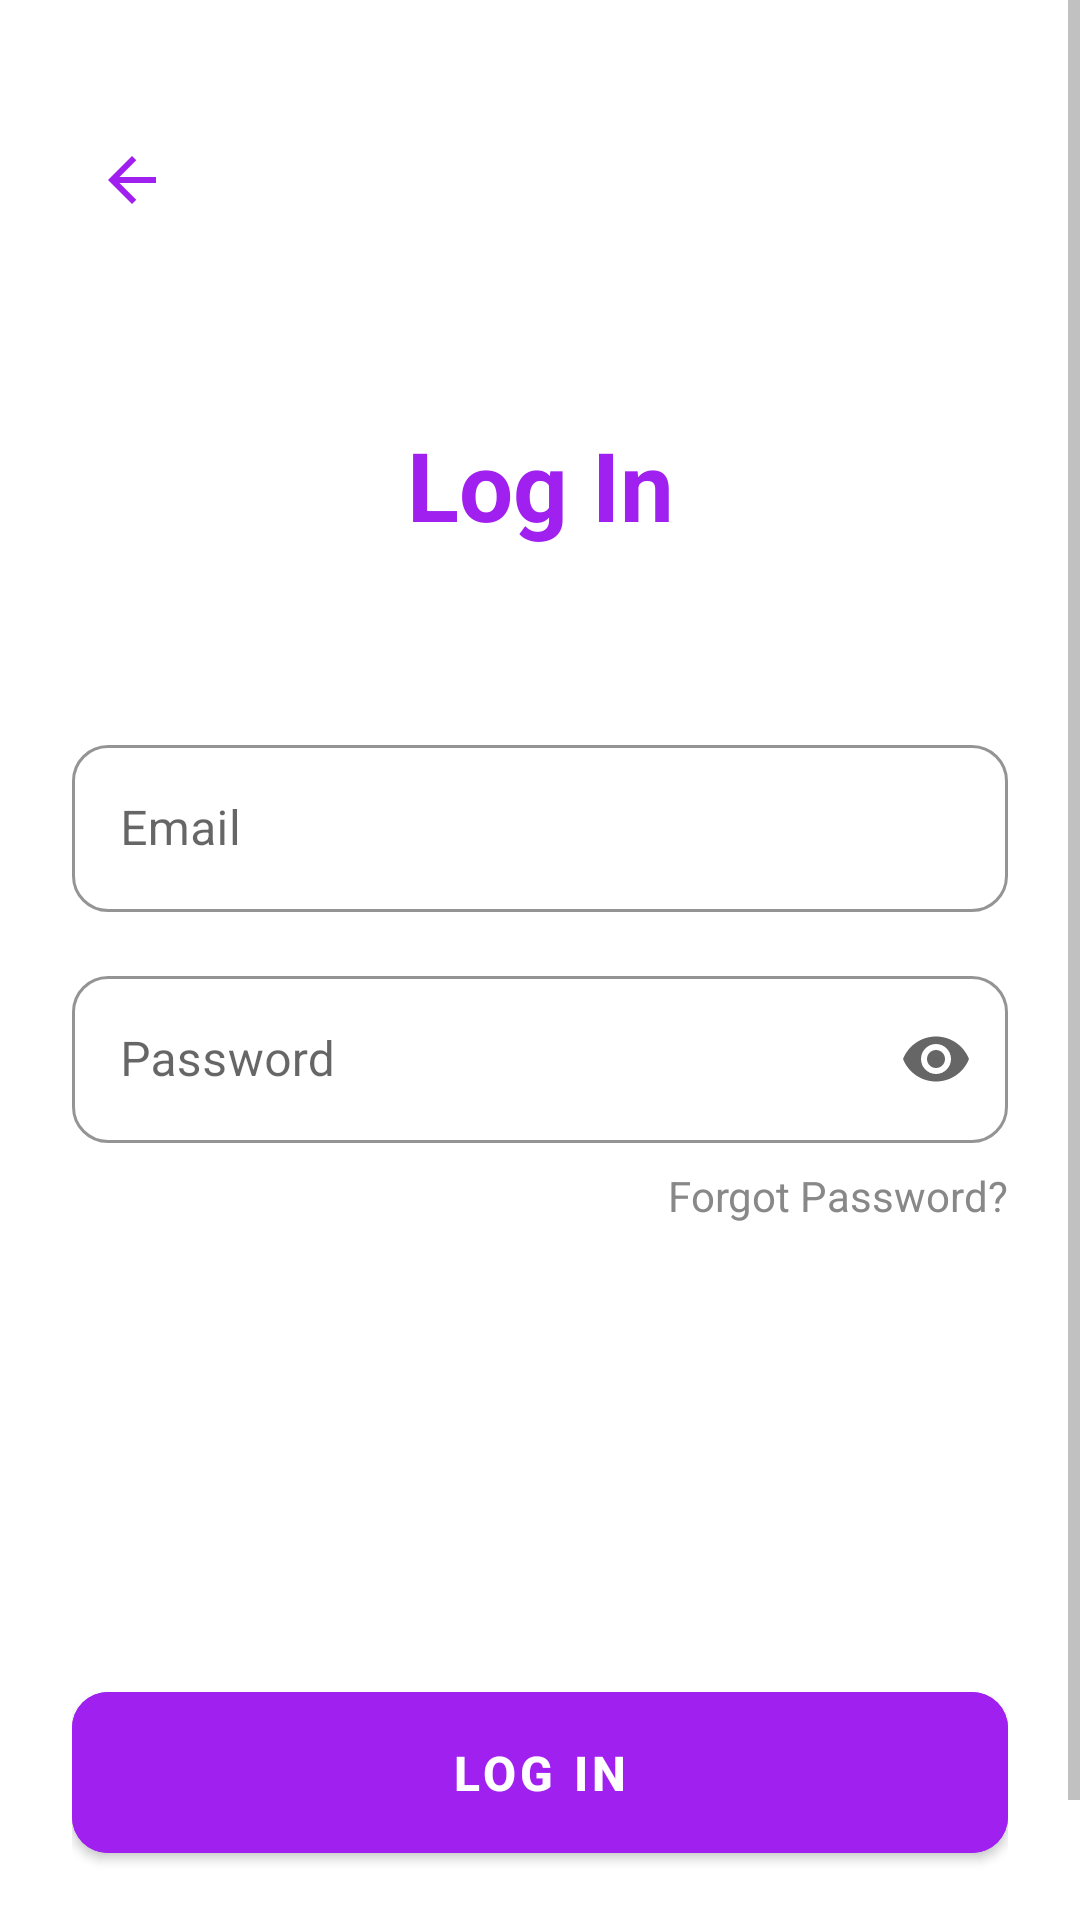

Where icons sit on this 1080*1920 app screen, as {"left": x1, "top": y1, "right": x2, "bottom": y2}:
back arrow: {"left": 108, "top": 156, "right": 156, "bottom": 204}
